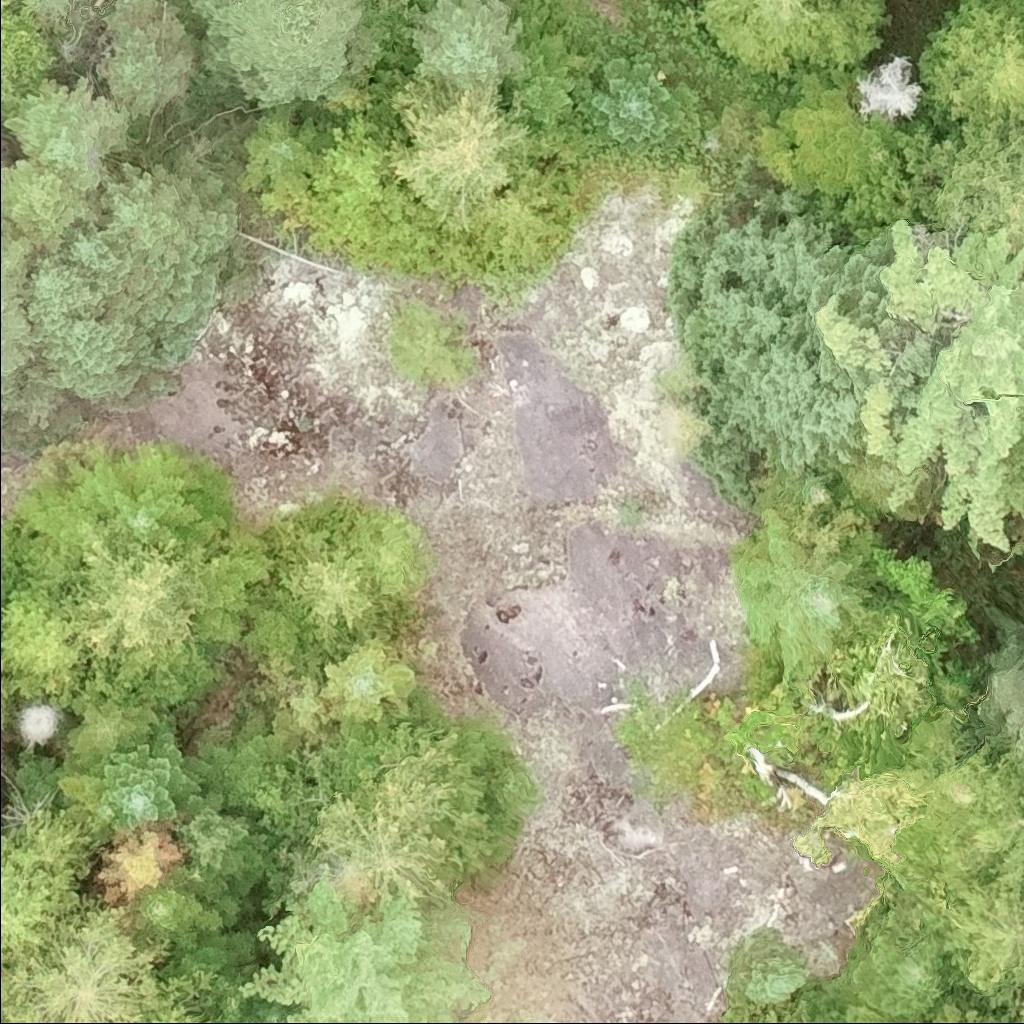crown: (864, 219, 1023, 553), (665, 162, 891, 361), (235, 862, 494, 1023), (731, 487, 880, 688), (10, 433, 241, 550), (390, 58, 544, 231), (0, 885, 174, 1023), (803, 598, 941, 762), (353, 721, 497, 871), (757, 62, 914, 199), (188, 0, 389, 105), (306, 787, 463, 914), (56, 223, 218, 340), (94, 151, 241, 276), (77, 534, 216, 657), (568, 49, 720, 161), (0, 806, 98, 969), (3, 75, 139, 191), (270, 526, 388, 655), (913, 0, 1023, 138), (91, 714, 218, 829), (20, 304, 165, 403), (915, 121, 1023, 246), (97, 0, 205, 120), (503, 0, 596, 131), (401, 0, 528, 90), (695, 0, 842, 76), (0, 584, 91, 705), (940, 876, 1023, 1002), (822, 770, 933, 864), (0, 155, 105, 254), (478, 163, 573, 268), (315, 631, 418, 724), (192, 715, 287, 811), (848, 930, 955, 1015), (235, 103, 333, 194), (818, 456, 940, 524), (0, 219, 38, 428), (123, 881, 229, 953), (65, 696, 167, 763), (0, 0, 57, 115), (21, 251, 109, 323), (629, 710, 713, 785), (158, 929, 258, 982), (699, 96, 776, 161), (811, 0, 887, 65), (849, 54, 921, 122), (763, 463, 841, 520), (146, 970, 221, 1023), (990, 658, 1023, 748), (833, 1005, 992, 1023), (12, 700, 62, 751), (13, 0, 69, 39), (719, 1004, 813, 1023), (365, 0, 411, 18), (0, 580, 24, 613), (0, 672, 12, 727), (209, 1012, 268, 1023), (1019, 465, 1023, 503), (1023, 434, 1023, 438)
